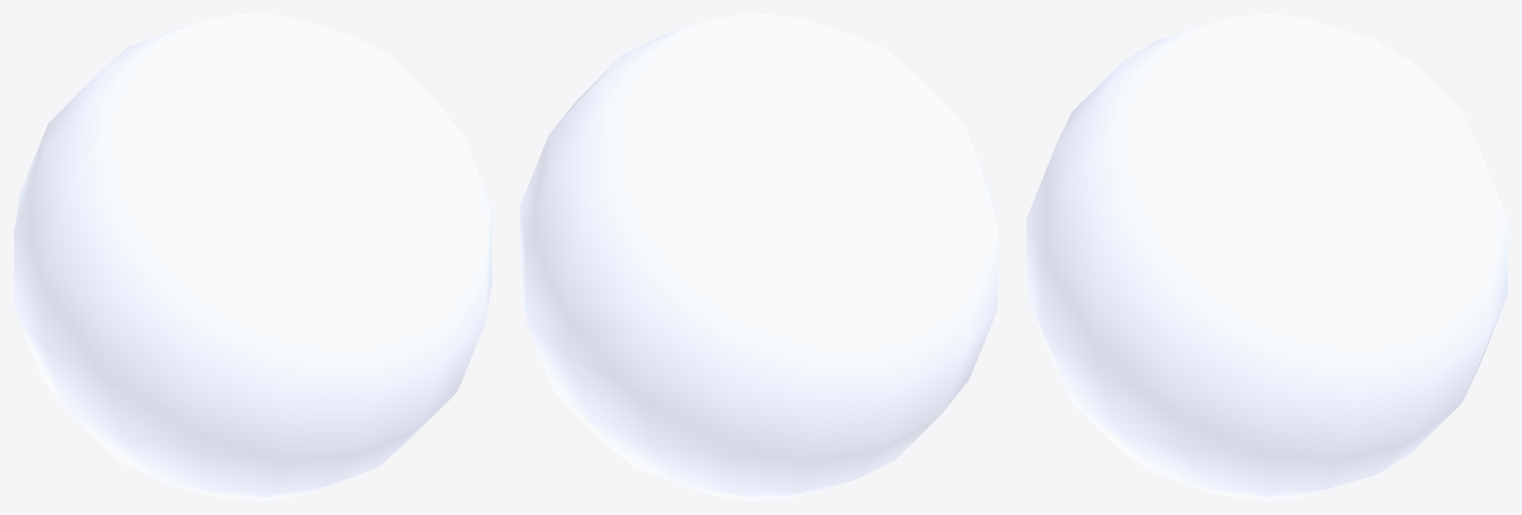
Rendered from ignore-col.glb.
The picture shows the model from 3 angles, left to right: view 1: azimuth 30°, elevation 25°; view 2: azimuth 150°, elevation 25°; view 3: azimuth 270°, elevation 25°; orthographic projection.
Parts seen in each view (by area): view 1: ignore-col; view 2: ignore-col; view 3: ignore-col.
Part boxes in pixels (box(x1,y1,x2,y2)): ignore-col: box(14, 14, 491, 500); ignore-col: box(520, 14, 997, 500); ignore-col: box(1026, 14, 1507, 500).
Bounding box in the file's own units: 0.3939 × 0.4 × 0.3939.
